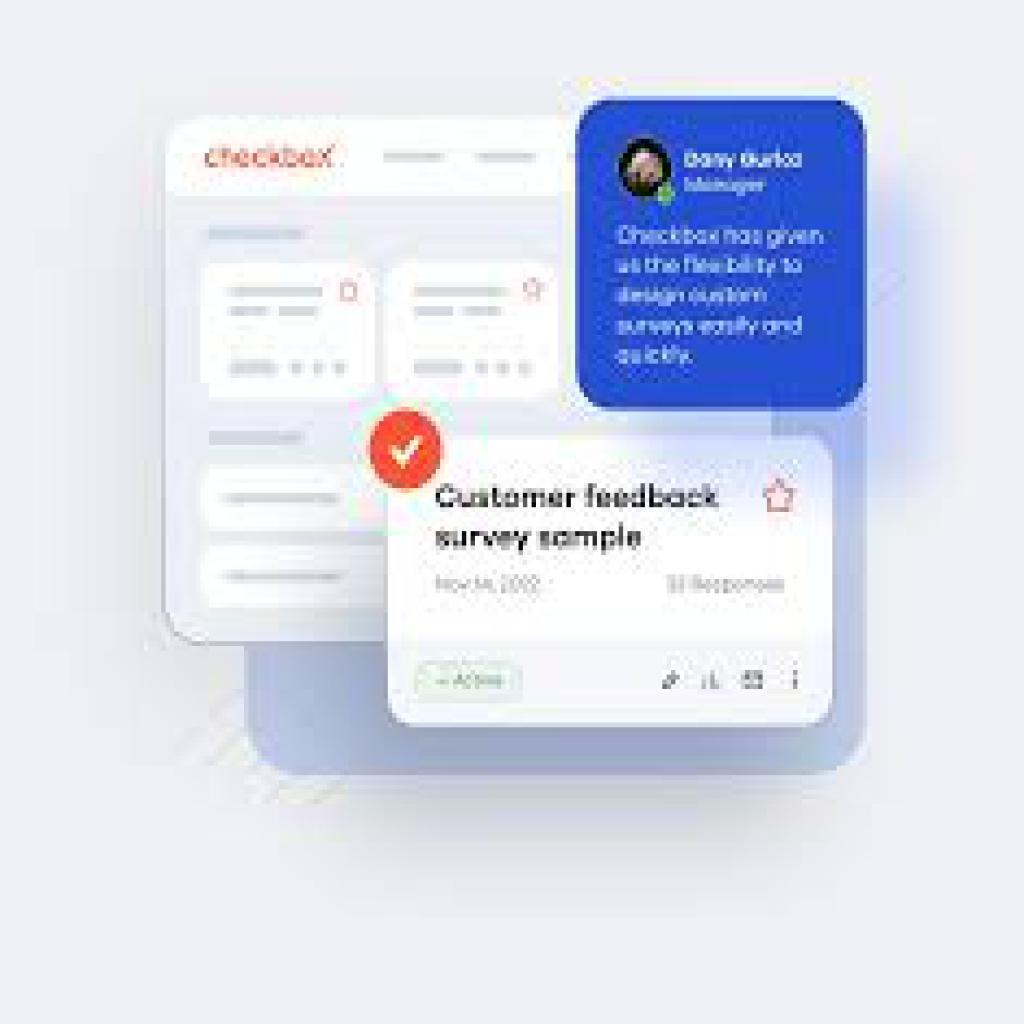checkbox: (365, 409, 447, 495)
icon: (759, 474, 799, 518), (741, 666, 771, 693), (698, 669, 727, 695), (660, 667, 681, 695), (789, 657, 804, 693)
